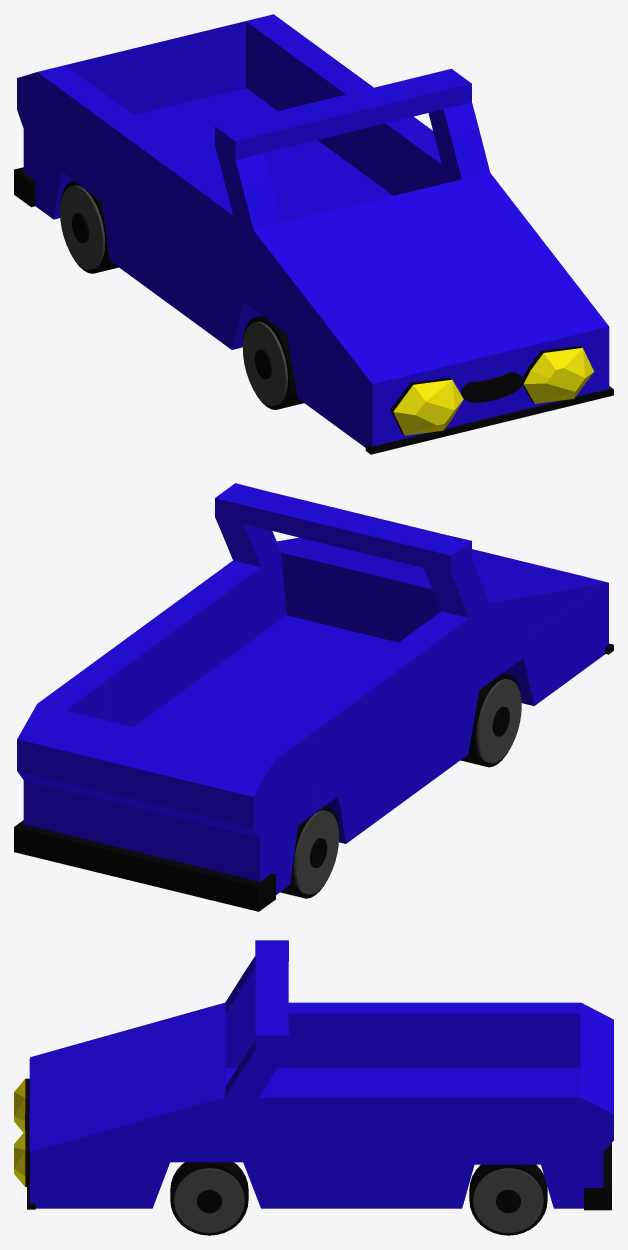
File: Common Blue.fbx
The picture shows the model from 3 angles, top to bottom: view 1: azimuth 30°, elevation 25°; view 2: azimuth 150°, elevation 25°; view 3: azimuth 270°, elevation 25°; orthographic projection. The views are drawn at different scales.
Parts seen in each view (by area): view 1: Cylinder; view 2: Cylinder; view 3: Cylinder.
Part boxes in pixels (x1,y1,x2,y2): Cylinder: (14, 14, 613, 454); Cylinder: (14, 483, 613, 911); Cylinder: (14, 940, 613, 1235).
Bounding box in the file's own units: 146 × 139 × 377.
